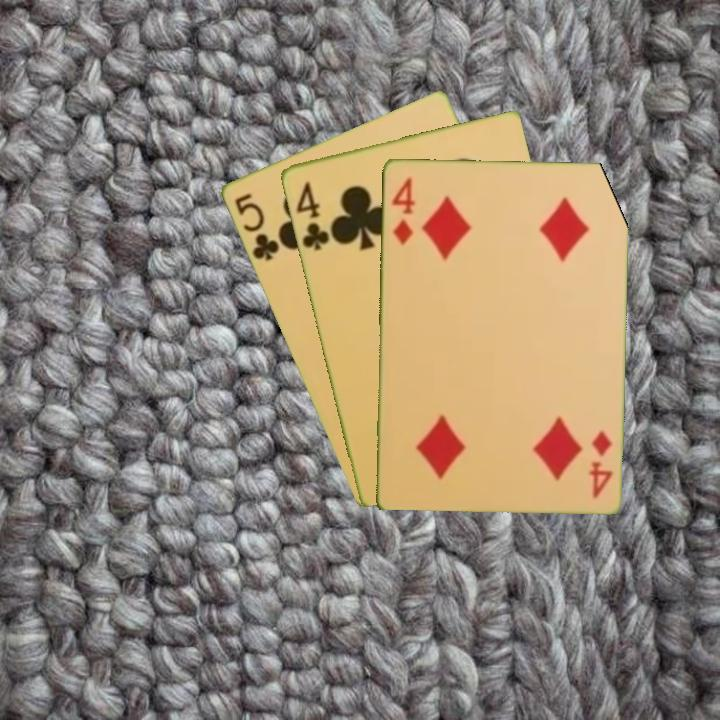4c: (292, 178, 332, 253)
4d: (388, 173, 418, 247), (585, 427, 615, 501)
5c: (230, 189, 282, 264)
